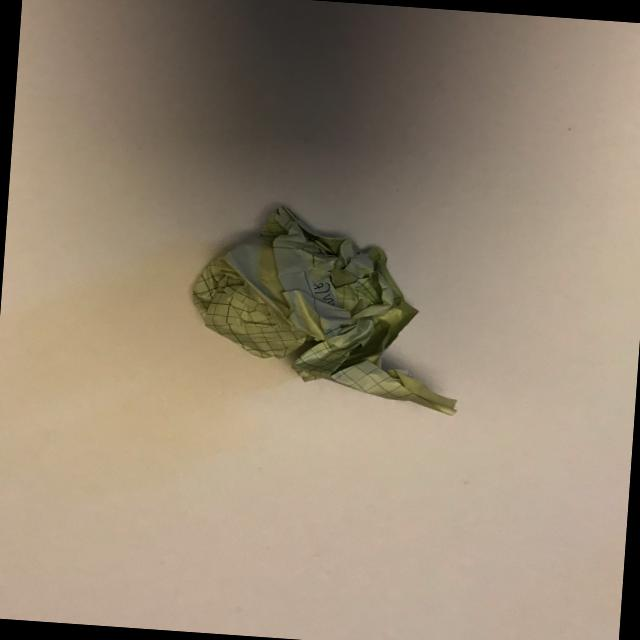Paper: (176, 194, 472, 414)
